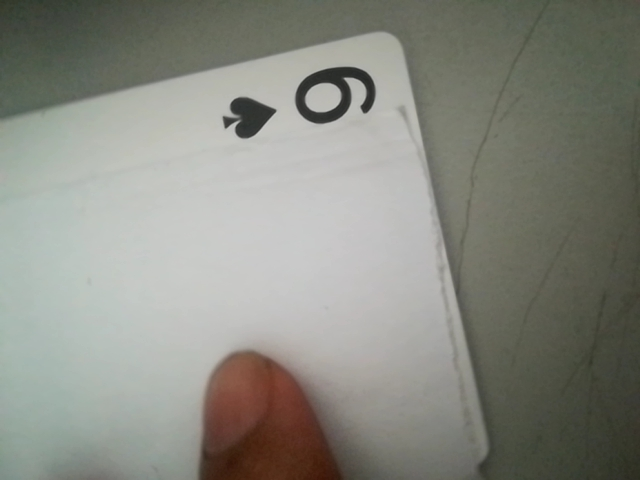ht 6: (205, 51, 400, 141)
